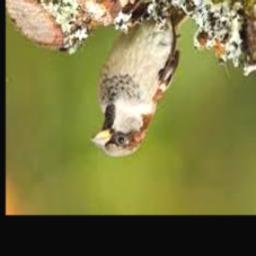Sparrow: (90, 5, 189, 156)
